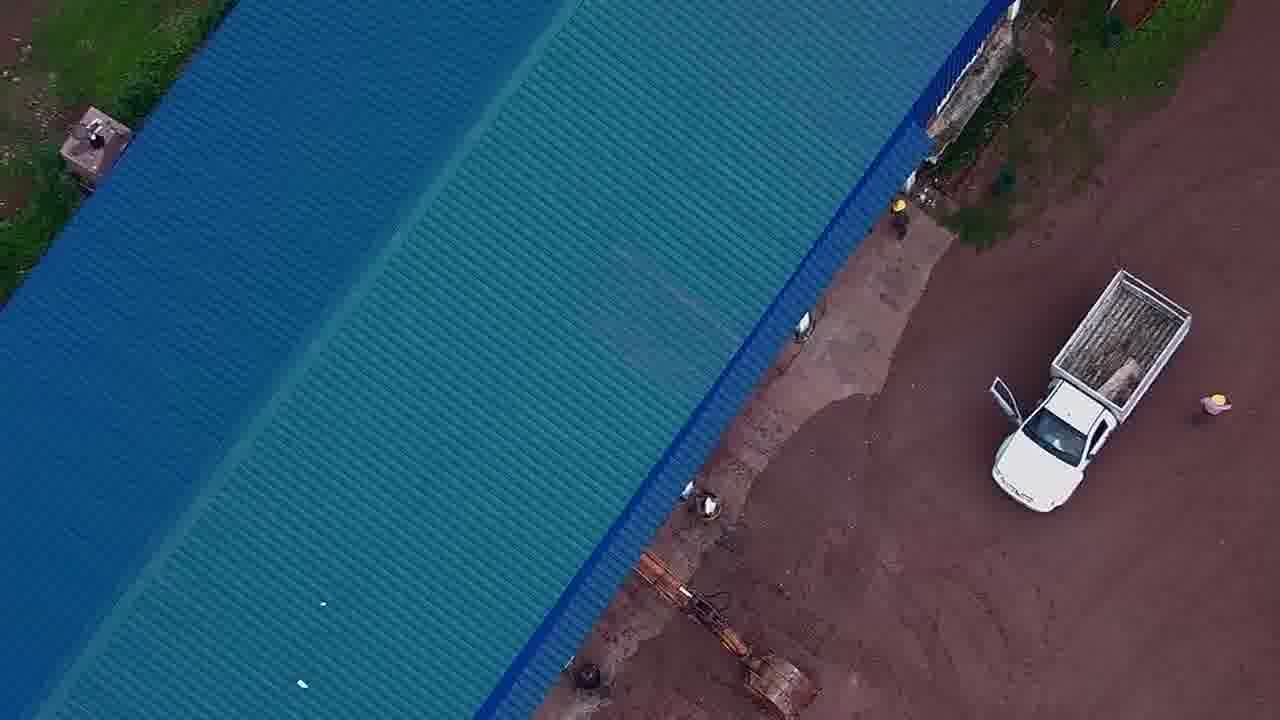light_motor_vehicle: (972, 265, 1187, 522)
person: (1195, 389, 1238, 428)
